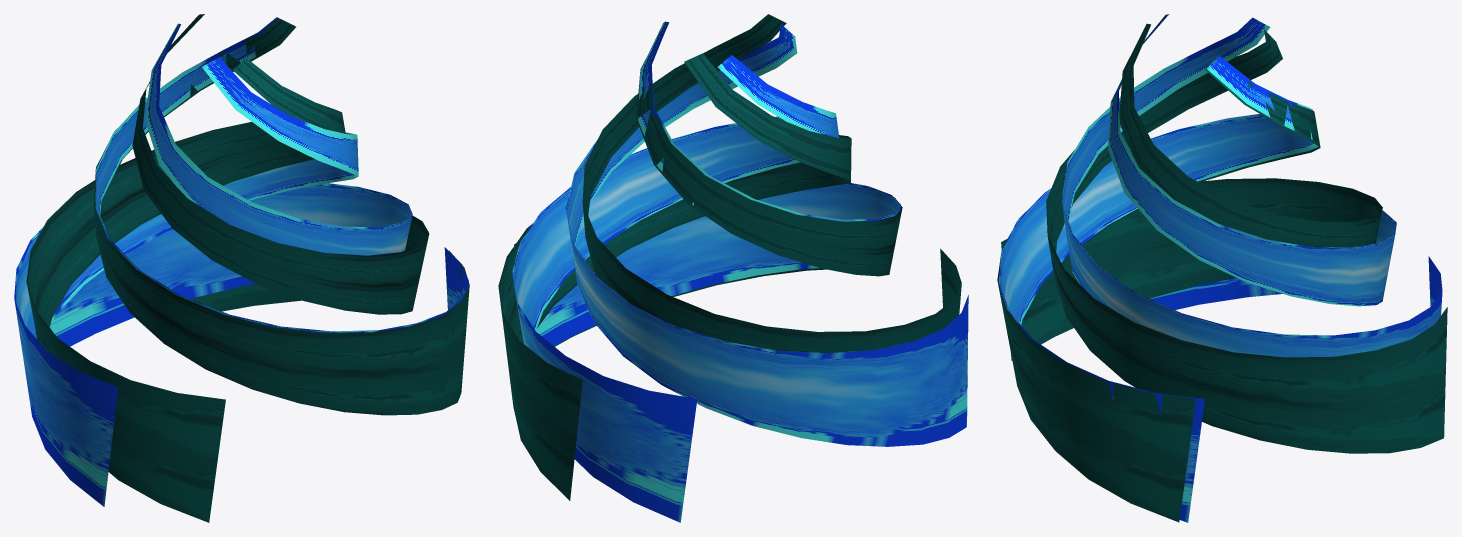
File: emls_skill.fbx
The picture shows the model from 3 angles, left to right: view 1: azimuth 30°, elevation 25°; view 2: azimuth 150°, elevation 25°; view 3: azimuth 270°, elevation 25°; orthographic projection.
Visible parts, largest first — view 1: juji2_black, juji1_black, juji3, juji2, juji3_black, juji1; view 2: juji2, juji3, juji3_black, juji2_black, juji1, juji1_black; view 3: juji3_black, juji2_black, juji1_black, juji1, juji2, juji3.
Part boxes in pixels (bbox=[...]): juji2_black: bbox=[26, 58, 345, 522]; juji1_black: bbox=[93, 18, 469, 415]; juji3: bbox=[49, 23, 412, 346]; juji2: bbox=[14, 57, 358, 506]; juji3_black: bbox=[132, 14, 429, 314]; juji1: bbox=[95, 17, 468, 332]; juji2: bbox=[566, 24, 968, 446]; juji3: bbox=[512, 55, 839, 522]; juji3_black: bbox=[498, 53, 851, 500]; juji2_black: bbox=[582, 14, 961, 353]; juji1: bbox=[514, 22, 900, 346]; juji1_black: bbox=[554, 21, 902, 346]; juji3_black: bbox=[1046, 29, 1447, 453]; juji2_black: bbox=[1001, 23, 1382, 360]; juji1_black: bbox=[997, 56, 1320, 522]; juji1: bbox=[999, 56, 1318, 522]; juji2: bbox=[1108, 14, 1396, 309]; juji3: bbox=[1062, 17, 1442, 357].
Bounding box in the file's own units: 13.71 × 12.35 × 12.95.
